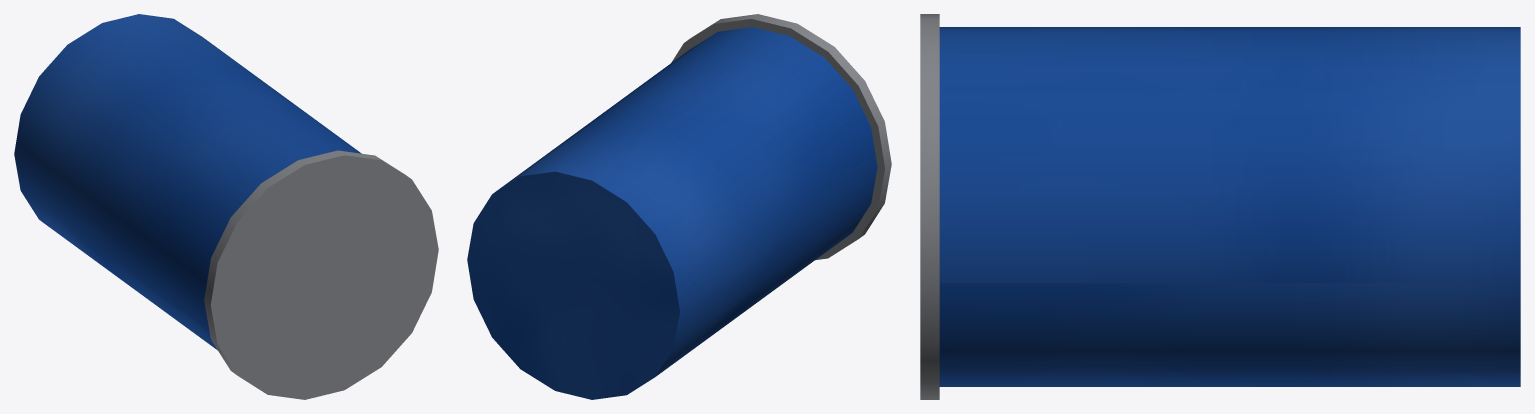
Rendered from bin.gltf.
The picture shows the model from 3 angles, left to right: view 1: azimuth 30°, elevation 25°; view 2: azimuth 150°, elevation 25°; view 3: azimuth 270°, elevation 25°; orthographic projection. The views are drawn at different scales.
Visible parts, largest first — view 1: bin; view 2: bin; view 3: bin.
Part boxes in pixels (x1,y1,x2,y2): bin: (14, 14, 438, 399); bin: (467, 14, 891, 399); bin: (920, 14, 1520, 399).
Size of the model in its own units: 0.6 by 0.5909 by 0.93.
Materials: 2 (1 with a texture image).
